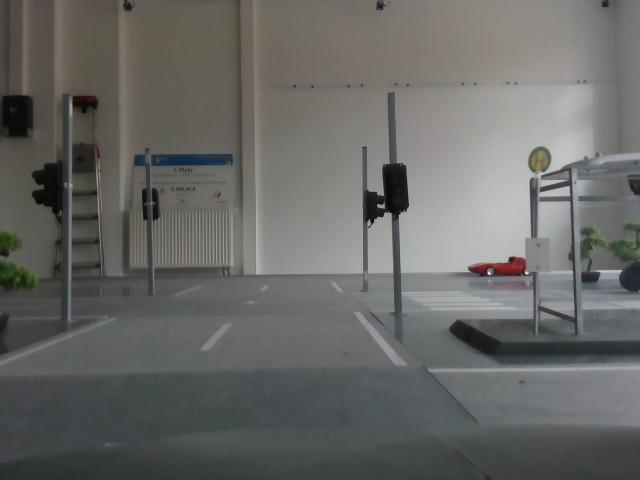car: (471, 255, 529, 283)
potted plant: (1, 228, 29, 341), (571, 223, 609, 288), (616, 226, 640, 284)
traffic light: (379, 159, 419, 219), (35, 159, 71, 225), (361, 183, 383, 228), (141, 186, 167, 224)
